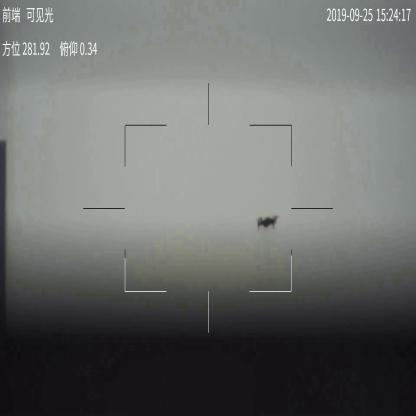uav: (255, 211, 278, 229)
